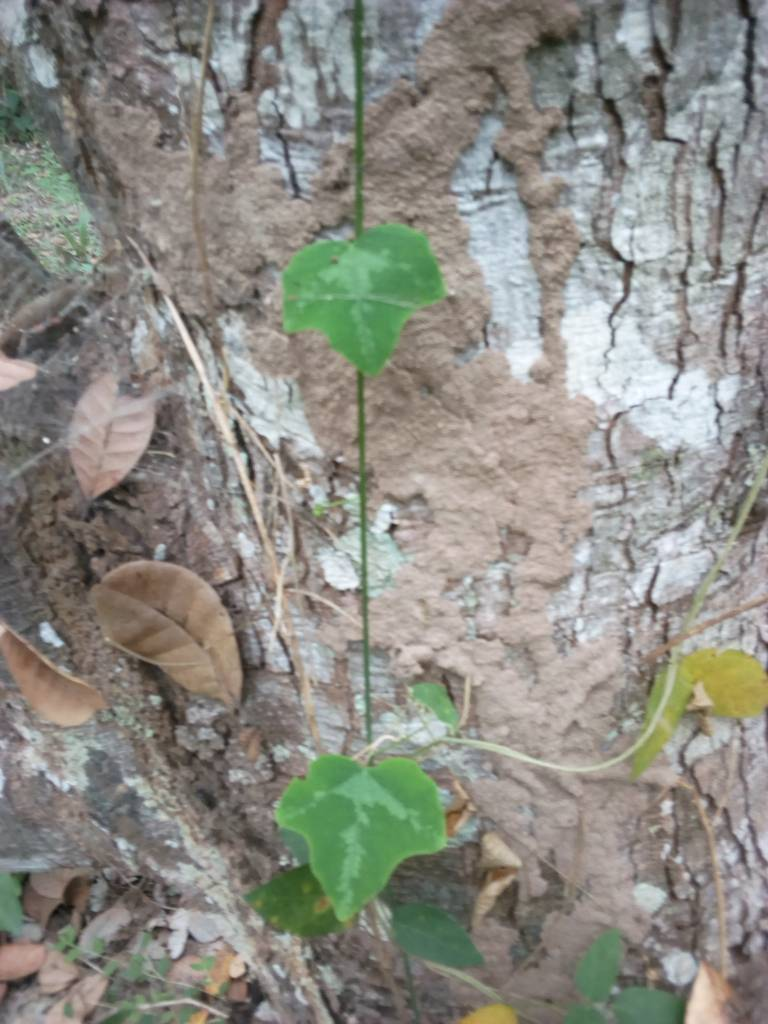Termites: (379, 19, 611, 694), (90, 108, 294, 292), (490, 697, 649, 933)
